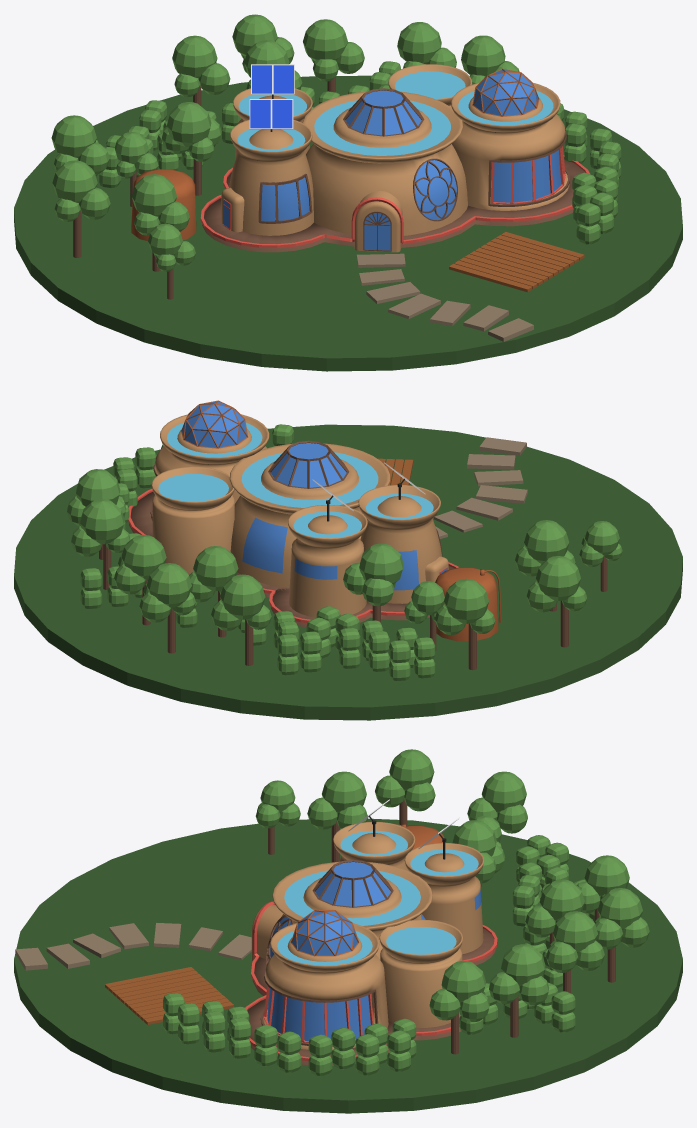
File: EXP_houses.glb
3 views of the same model, one above another, from view 1: azimuth 30°, elevation 25°; view 2: azimuth 150°, elevation 25°; view 3: azimuth 270°, elevation 25° (orthographic).
Visible parts, largest first — view 1: EXP_Path, EXP_House, EXP_forest, EXP_Water, EXP_Biogas; view 2: EXP_Path, EXP_forest, EXP_House, EXP_Water, EXP_Biogas; view 3: EXP_Path, EXP_forest, EXP_House, EXP_Water, EXP_Biogas.
Boxes of the visible parts, x1,y1,x2,y2 form: EXP_Path: (14,75,682,371); EXP_House: (200,64,589,252); EXP_forest: (51,14,621,299); EXP_Water: (395,71,553,125); EXP_Biogas: (131,169,196,240); EXP_Path: (14,424,682,720); EXP_forest: (67,424,622,680); EXP_House: (128,400,458,627); EXP_Water: (158,422,262,501); EXP_Biogas: (435,567,501,641); EXP_Path: (14,818,682,1113); EXP_forest: (163,749,649,1075); EXP_House: (245,799,497,1065); EXP_Water: (277,927,456,965); EXP_Biogas: (396,824,446,850).
Bounding box in the file's own units: 13.32 × 3.35 × 13.32.
